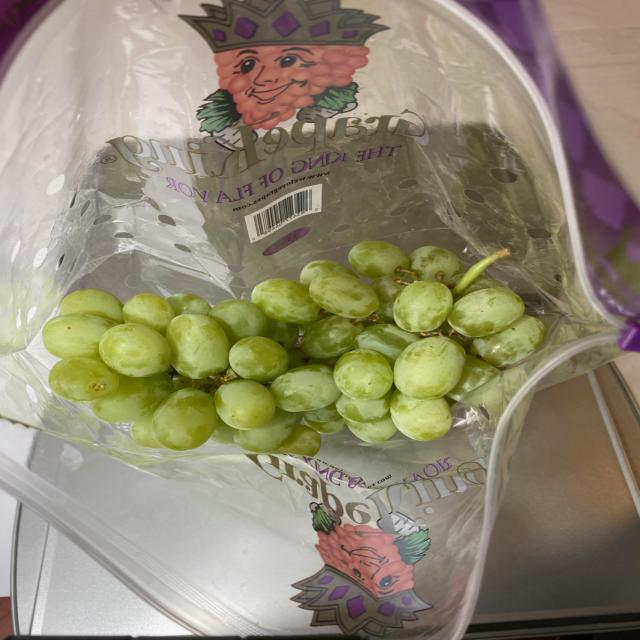grapes: (40, 244, 552, 446)
